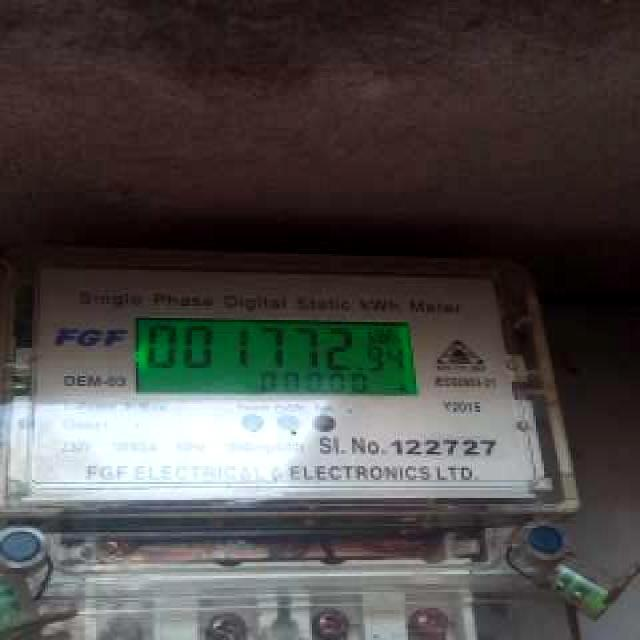LCD: (130, 303, 434, 409)
